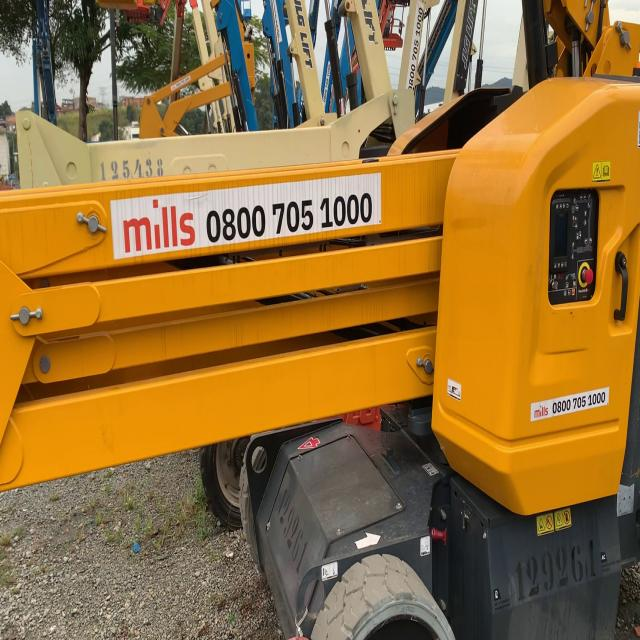Adesivo Longo: (108, 169, 383, 262), (530, 385, 610, 424)
